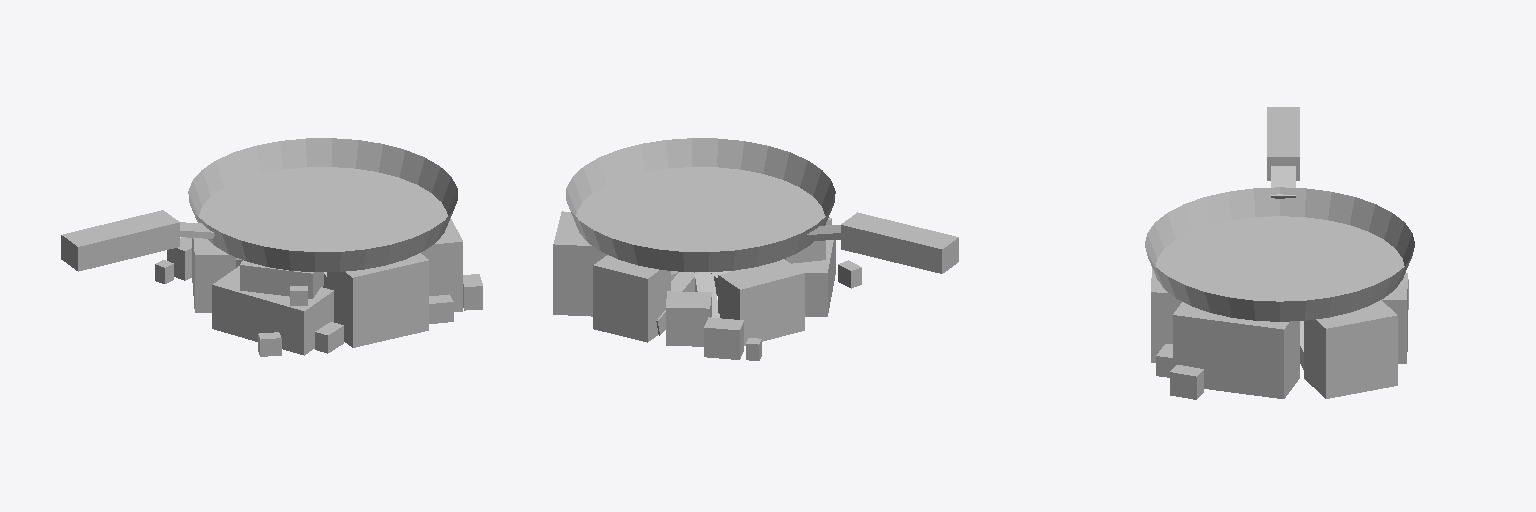
File: fire_pit_with_frying_pan.obj
The picture shows the model from 3 angles: view 1: azimuth 30°, elevation 25°; view 2: azimuth 150°, elevation 25°; view 3: azimuth 270°, elevation 25°; orthographic projection.
Visible parts, largest first — view 1: 柱体.001, fire_pit, Box062.002; view 2: 柱体.001, fire_pit, Box062.002; view 3: 柱体.001, fire_pit, Box062.002, Box063.002.
Boxes of the visible parts, x1=… form: 柱体.001: x1=188, y1=138, x2=457, y2=271; fire_pit: x1=155, y1=218, x2=482, y2=356; Box062.002: x1=61, y1=210, x2=179, y2=271; 柱体.001: x1=566, y1=138, x2=835, y2=271; fire_pit: x1=553, y1=211, x2=861, y2=360; Box062.002: x1=841, y1=212, x2=958, y2=273; 柱体.001: x1=1145, y1=187, x2=1414, y2=321; fire_pit: x1=1151, y1=268, x2=1408, y2=399; Box062.002: x1=1267, y1=107, x2=1299, y2=180; Box063.002: x1=1271, y1=166, x2=1295, y2=198.
Bounding box in the file's own units: 1.57 × 0.4802 × 1.